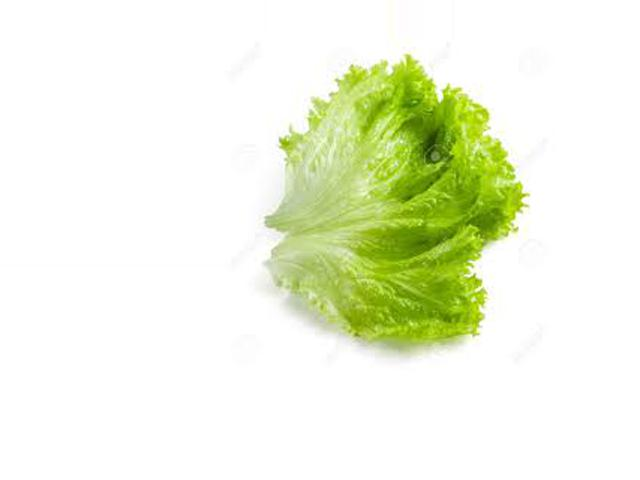lettuce: (258, 48, 513, 371)
